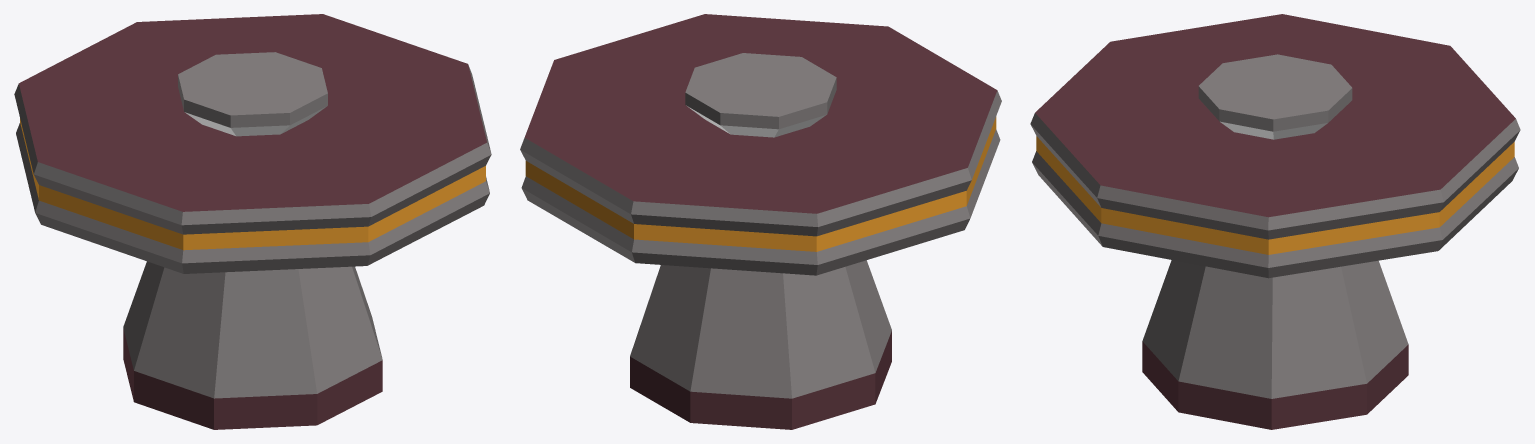
File: scifi-table-round.fbx
The picture shows the model from 3 angles, left to right: view 1: azimuth 30°, elevation 25°; view 2: azimuth 150°, elevation 25°; view 3: azimuth 270°, elevation 25°; orthographic projection.
Parts seen in each view (by area): view 1: scifi-table-round; view 2: scifi-table-round; view 3: scifi-table-round.
Boxes of the visible parts, box(x1,y1,x2,y2) form: scifi-table-round: box(14, 14, 491, 429); scifi-table-round: box(520, 14, 1001, 429); scifi-table-round: box(1030, 14, 1520, 429).
Bounding box in the file's own units: 1.38 × 0.889 × 1.38.
